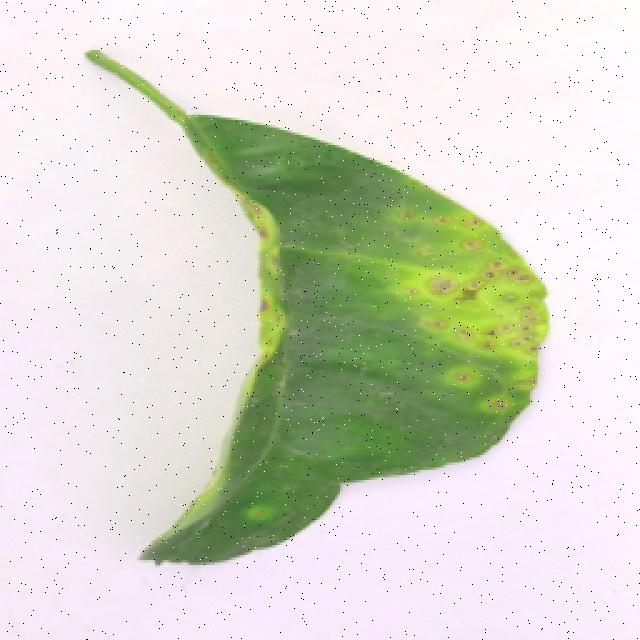canker: (74, 49, 569, 579)
